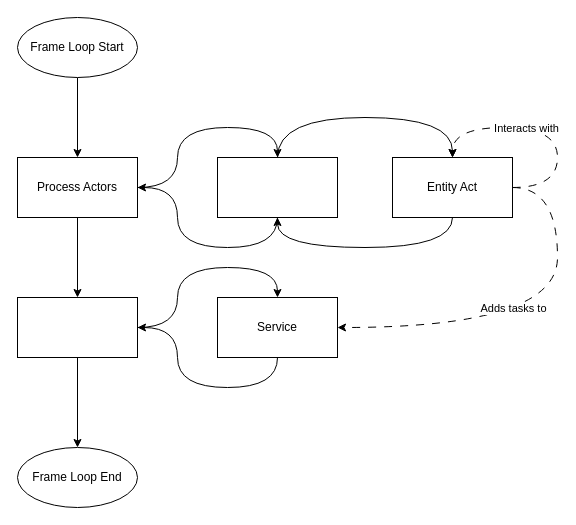
This 576x525 diagram has some shape labels left out. Each missing label, with the centre of its shape:
"Actor" belongs at point 277,187.
"Process Services" belongs at point 77,327.
